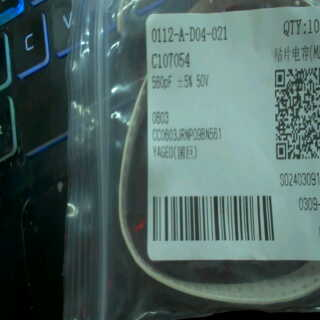560pF: (149, 73, 176, 91)
